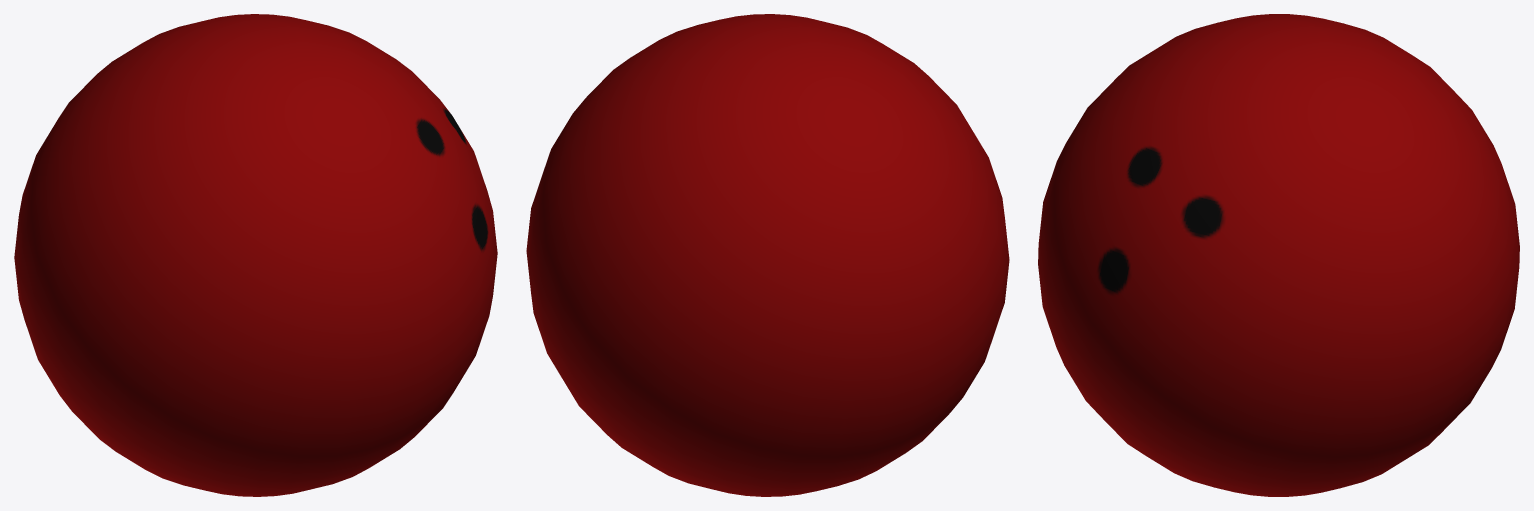
The model's file is Bowling_ball.fbx.
The picture shows the model from 3 angles, left to right: view 1: azimuth 30°, elevation 25°; view 2: azimuth 150°, elevation 25°; view 3: azimuth 270°, elevation 25°; orthographic projection.
Visible parts, largest first — view 1: Sphere; view 2: Sphere; view 3: Sphere.
Part boxes in pixels (x1=…): Sphere: x1=14, y1=14, x2=497, y2=496; Sphere: x1=526, y1=14, x2=1009, y2=496; Sphere: x1=1038, y1=14, x2=1519, y2=496.
Bounding box in the file's own units: 199 × 200 × 199.
1 material, 1 textured.
